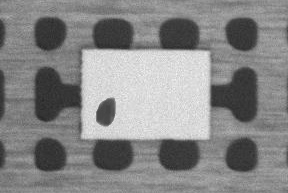DIE_INK: (92, 98, 117, 126)
